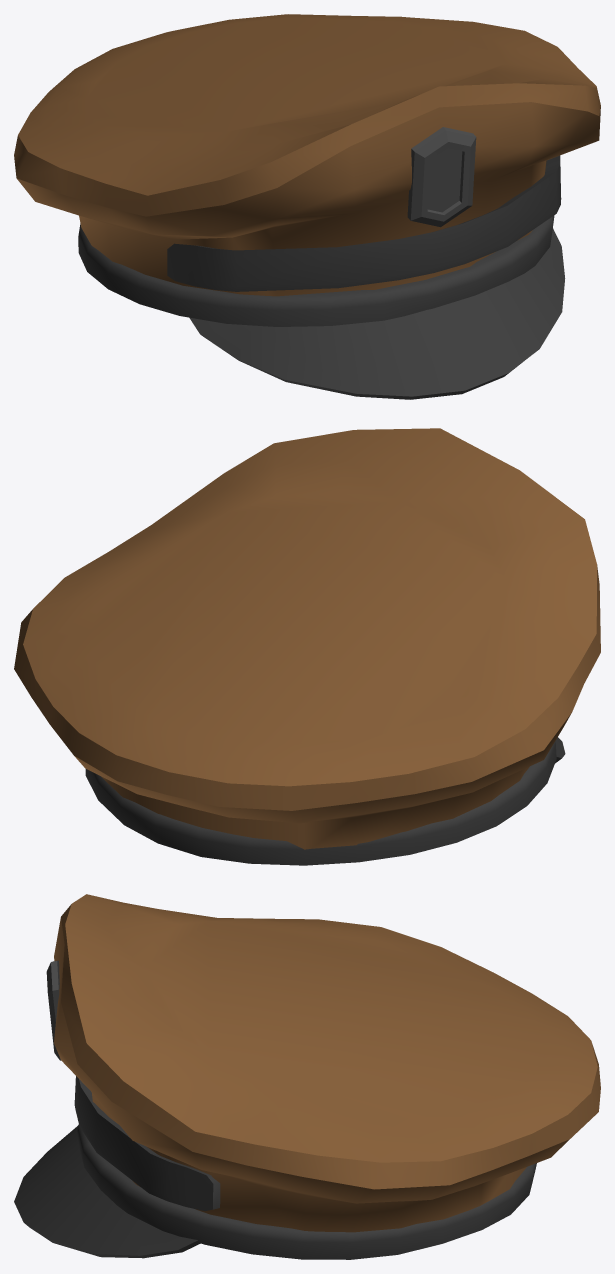
File: Helmet_Security.fbx
3 renders of one model, top to bottom at view 1: azimuth 30°, elevation 25°; view 2: azimuth 150°, elevation 25°; view 3: azimuth 270°, elevation 25°, orthographic. The views are drawn at different scales.
Visible parts, largest first — view 1: Security_Hat.001; view 2: Security_Hat.001; view 3: Security_Hat.001.
Part boxes in pixels (x1,y1,x2,y2): Security_Hat.001: (14,14,600,399); Security_Hat.001: (14,428,600,865); Security_Hat.001: (14,894,600,1259).
Bounding box in the file's own units: 48.04 × 25.31 × 47.6.
